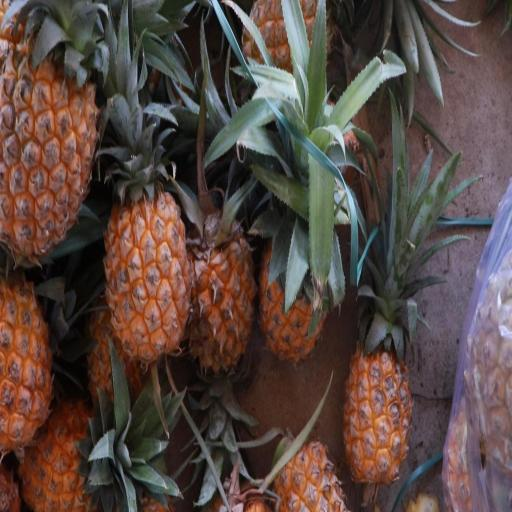Pineapple - v8 v1: (0, 11, 113, 268), (102, 167, 192, 369), (18, 398, 156, 512), (1, 269, 78, 457), (188, 184, 260, 381), (339, 310, 414, 490), (258, 191, 332, 367)
